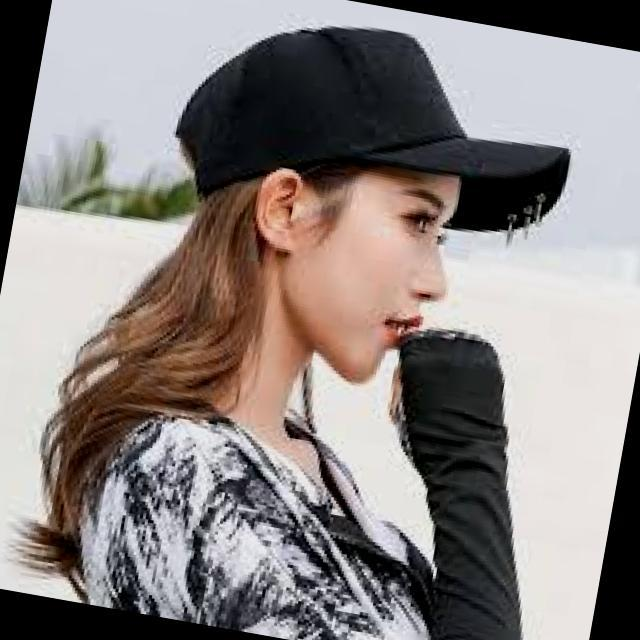cap: (133, 0, 610, 272)
